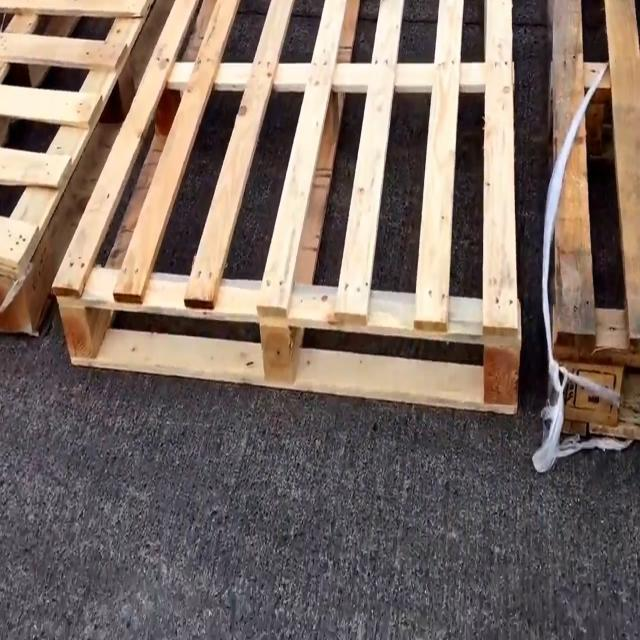Palette: (48, 0, 527, 428), (0, 0, 162, 345), (545, 0, 640, 454)
